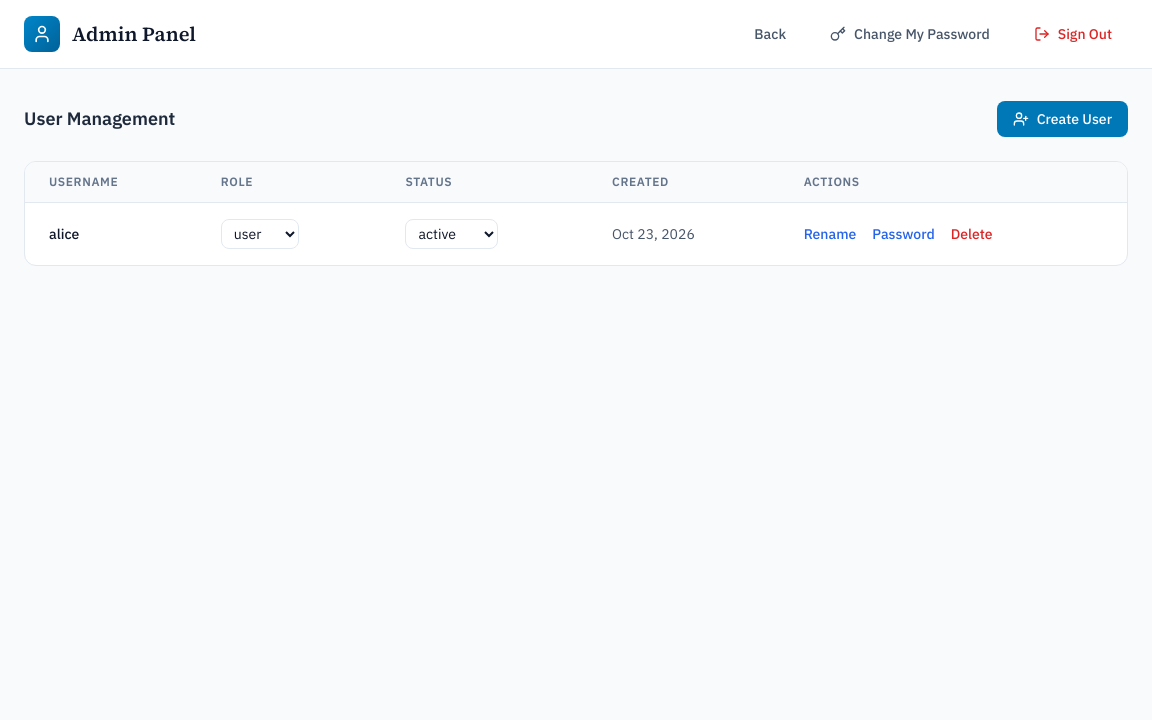
it: admin username changes › renames a user and refreshes the table (self=false)
Click the button "Rename": x=830, y=234 left=804, top=224, right=856, bottom=244
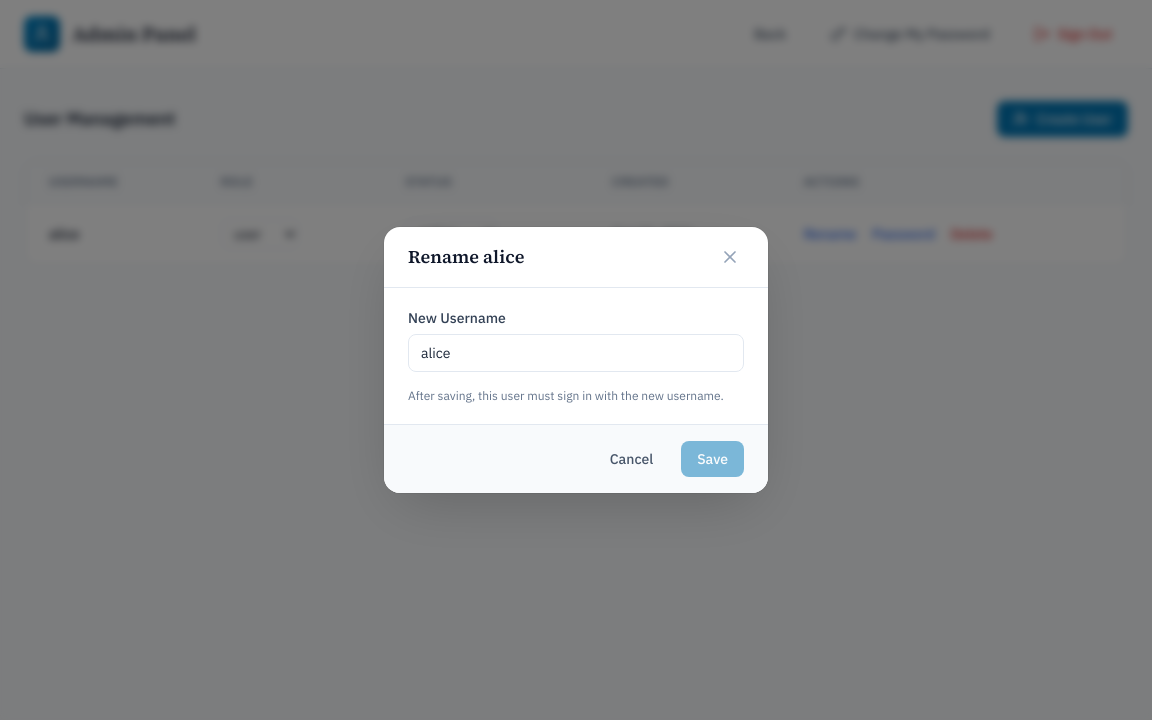
Replace the text in the field with placeholder "Enter new username" with "renamed": x=576, y=353 left=408, top=334, right=744, bottom=372
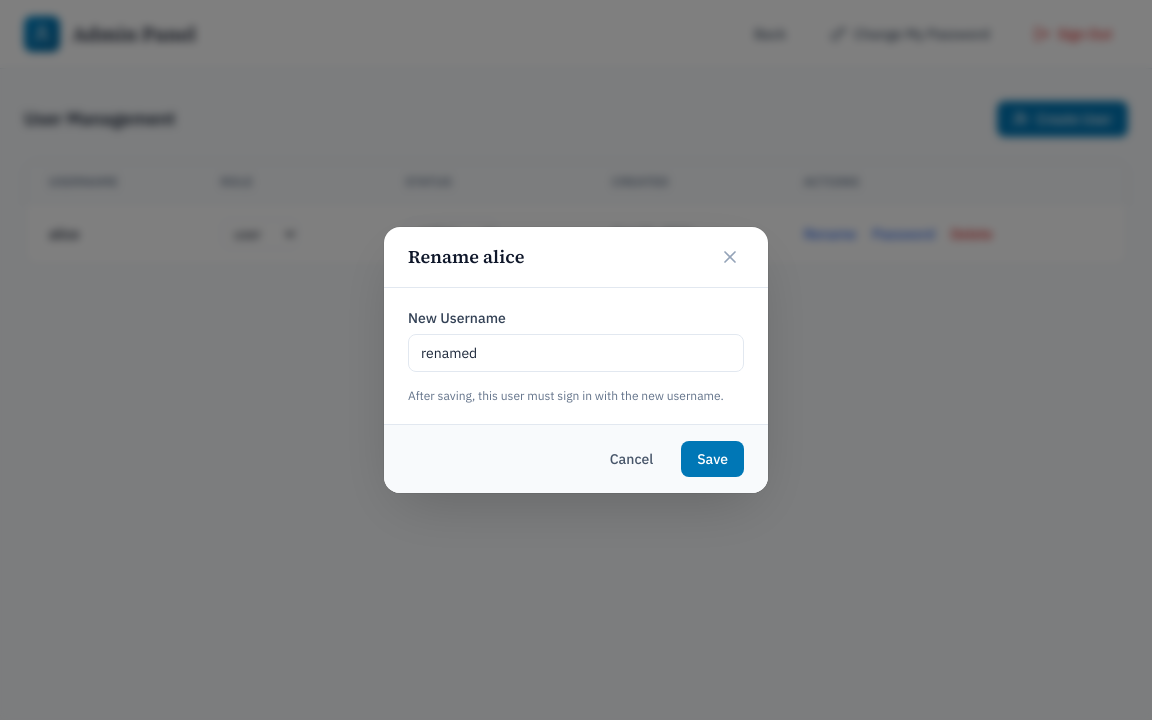
Click the button "Save": x=713, y=459 left=681, top=441, right=744, bottom=477
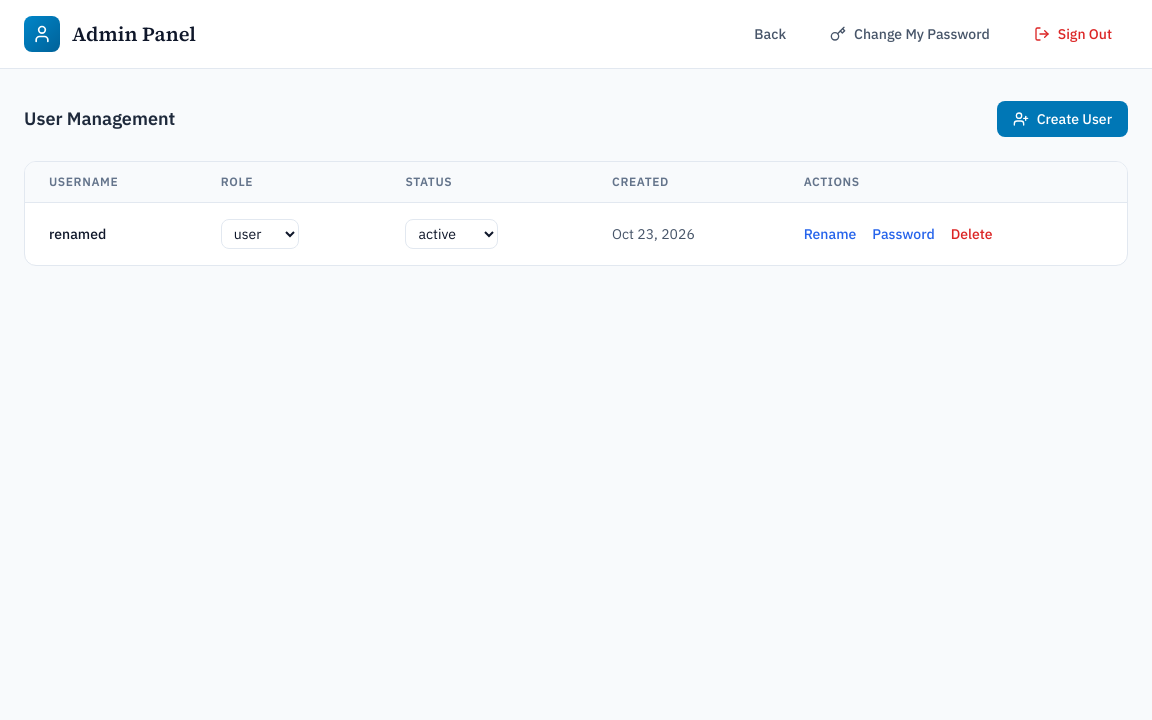
Check: the text "renamed" is shown, box left=49, top=225, right=106, bottom=243
